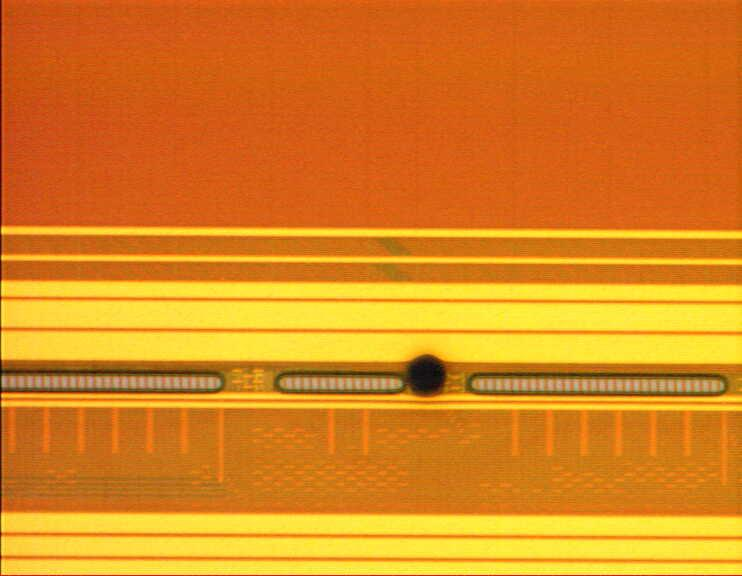PARTICLE: (401, 348, 453, 400)
